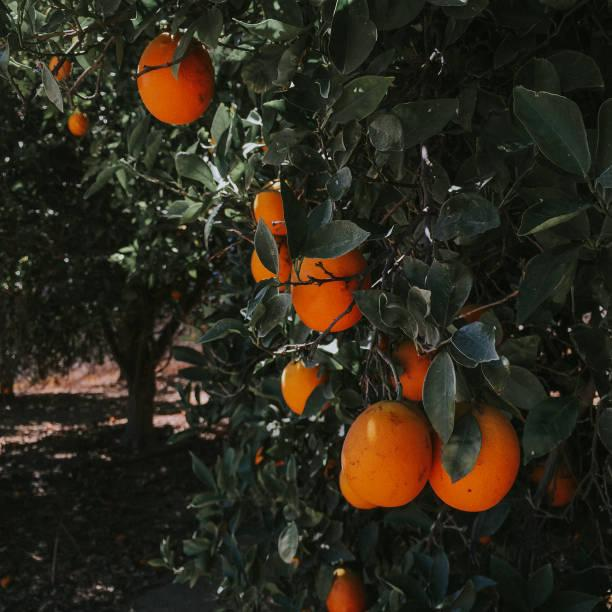orange: (235, 196, 394, 331), (339, 392, 509, 496), (273, 235, 407, 353), (134, 40, 230, 125)
